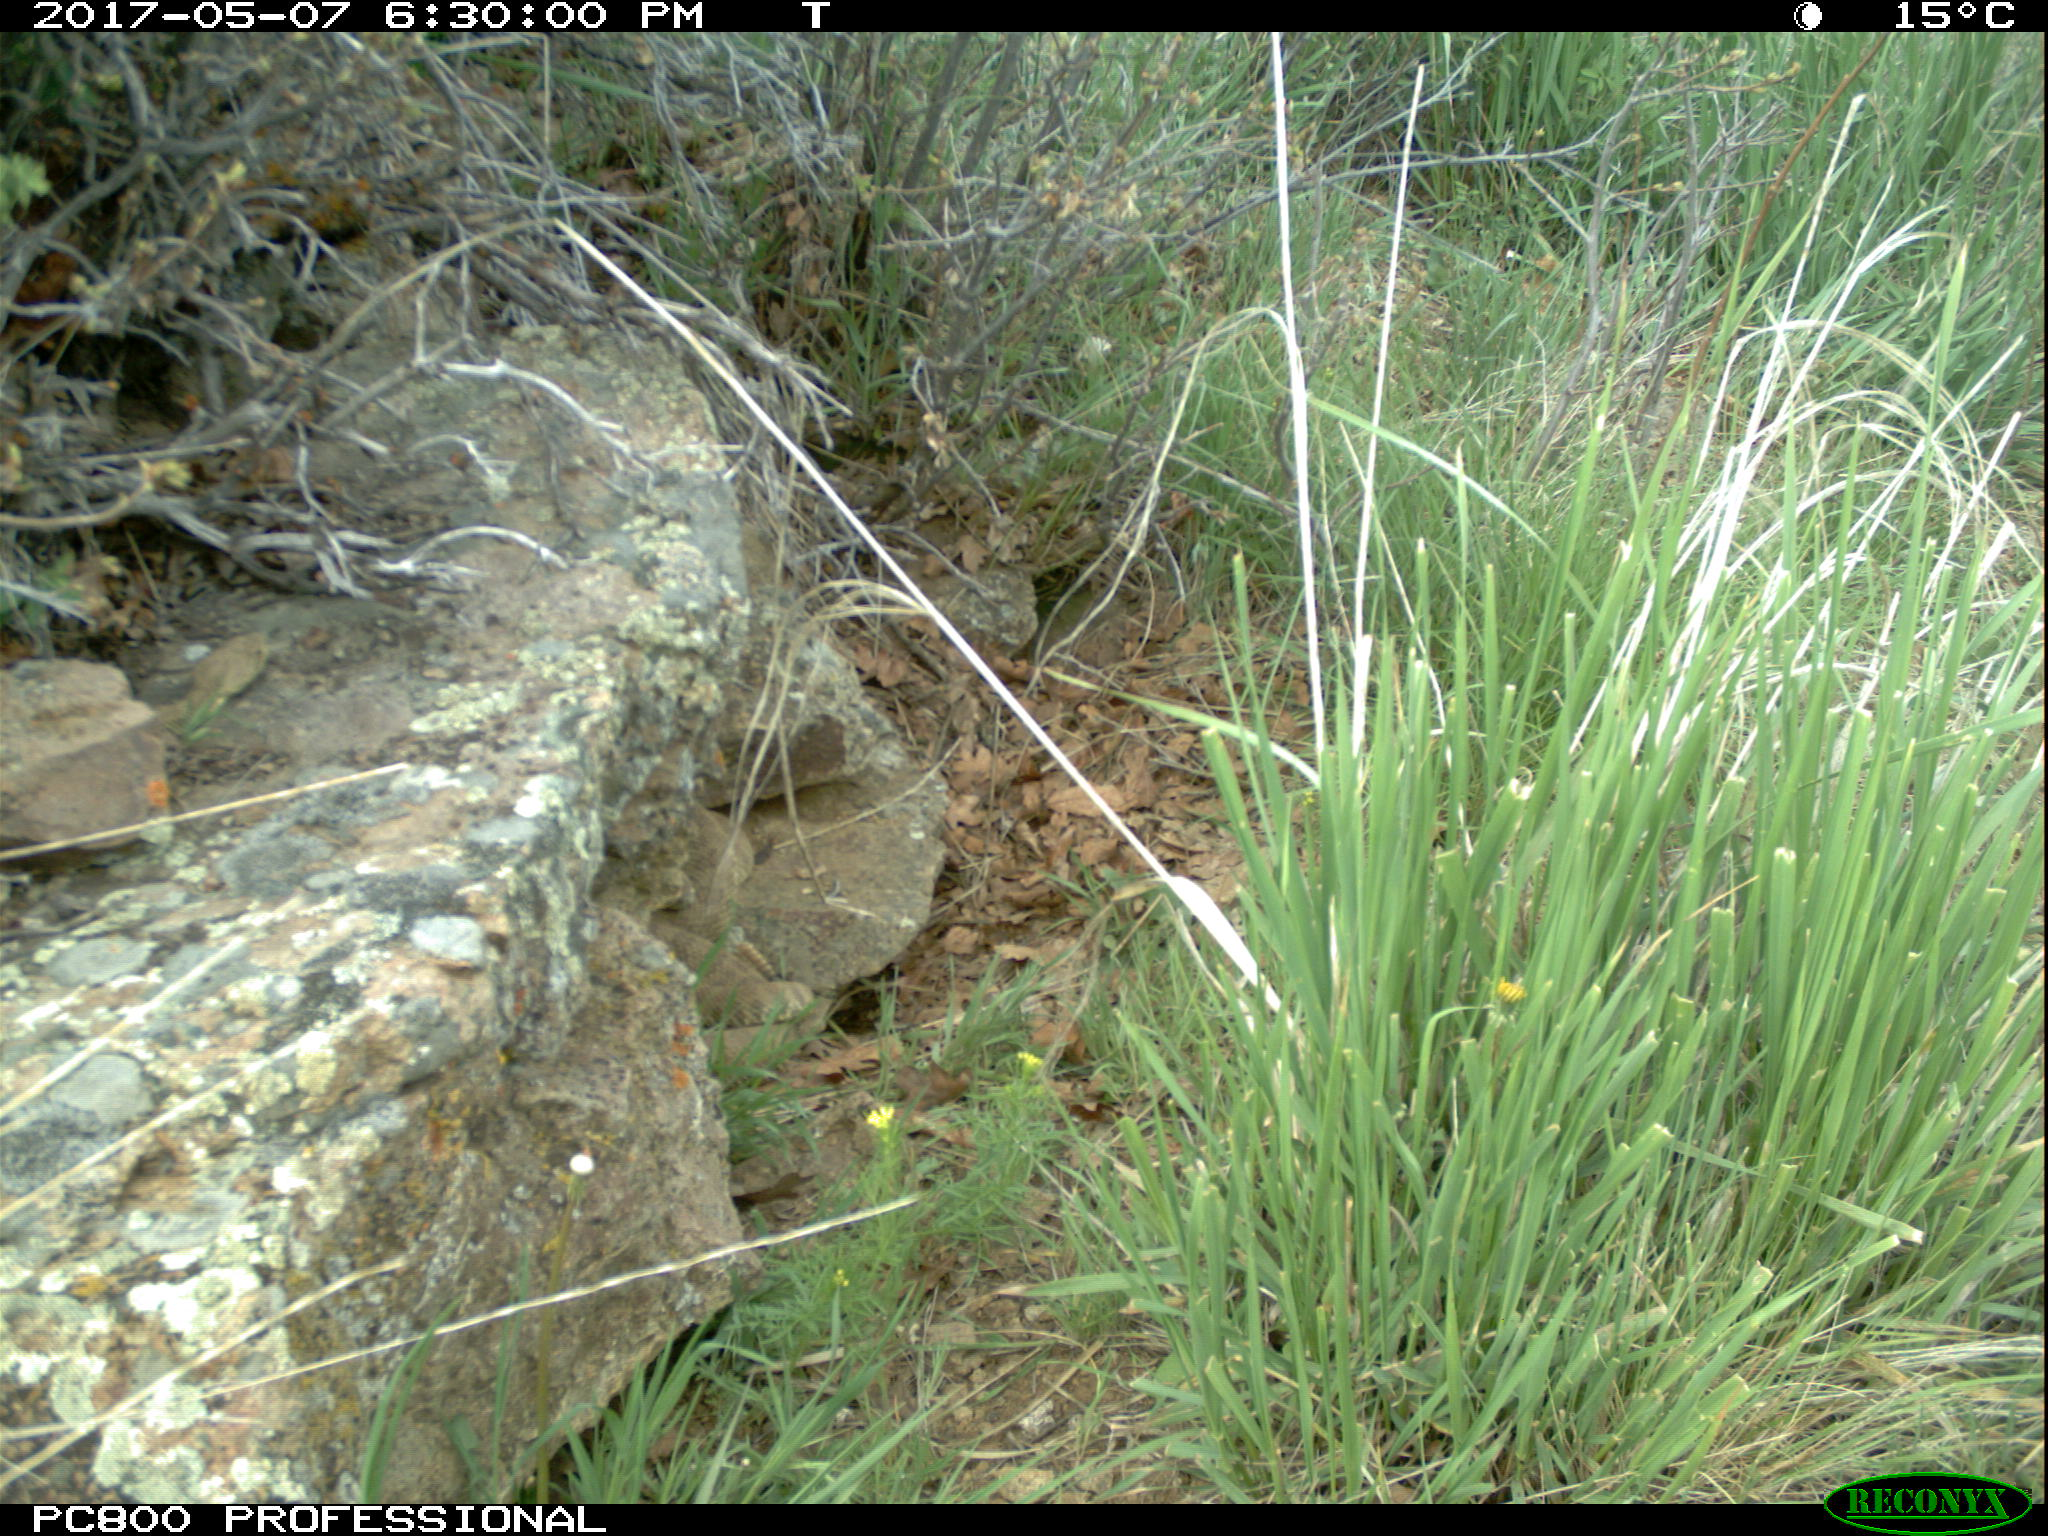snake: (664, 808, 821, 1029), (148, 632, 289, 733)
